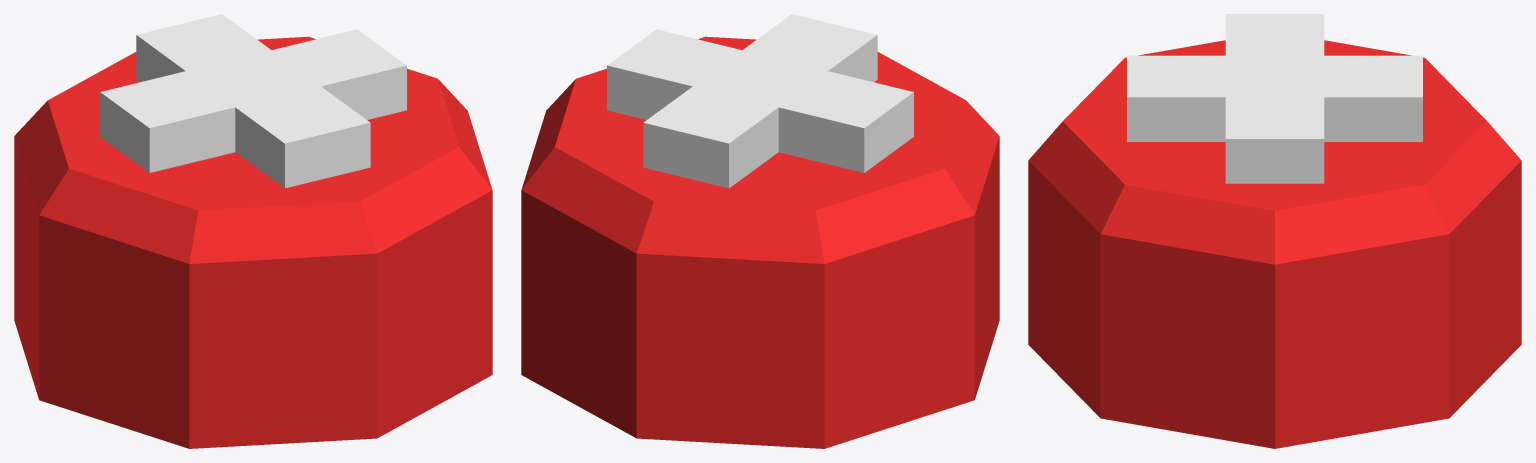
Rendered from HealthPack.fbx.
3 views of the same model, side by side, from view 1: azimuth 30°, elevation 25°; view 2: azimuth 150°, elevation 25°; view 3: azimuth 270°, elevation 25° (orthographic).
Parts seen in each view (by area): view 1: Cylinder; view 2: Cylinder; view 3: Cylinder.
Part boxes in pixels (bbox=[...]): Cylinder: bbox=[14, 14, 492, 448]; Cylinder: bbox=[521, 14, 999, 448]; Cylinder: bbox=[1028, 14, 1521, 448].
Size of the model in its own units: 100 by 60 by 100.
